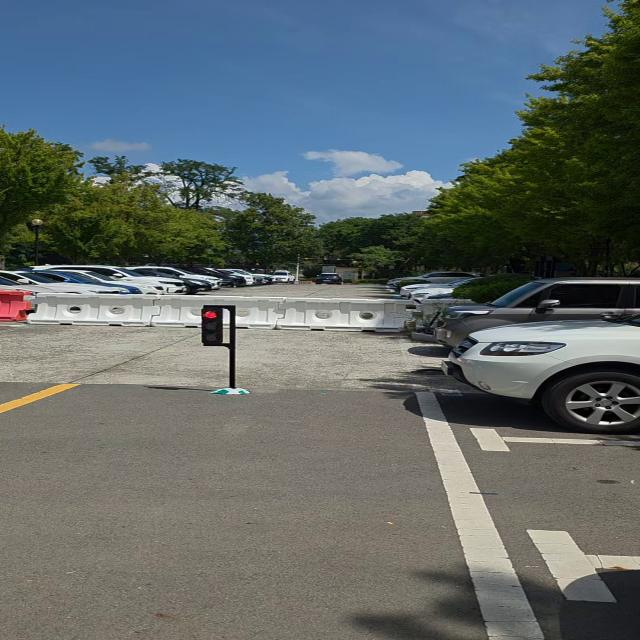red: (198, 307, 226, 345)
